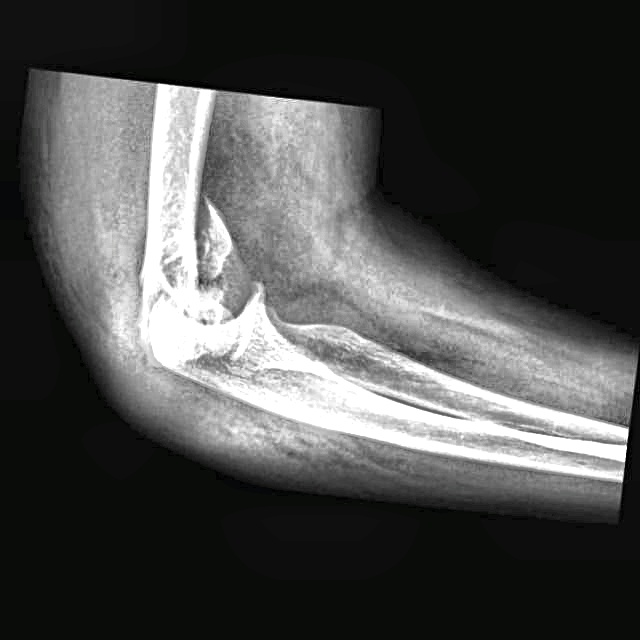Oblique Displaced: (153, 188, 263, 373)
